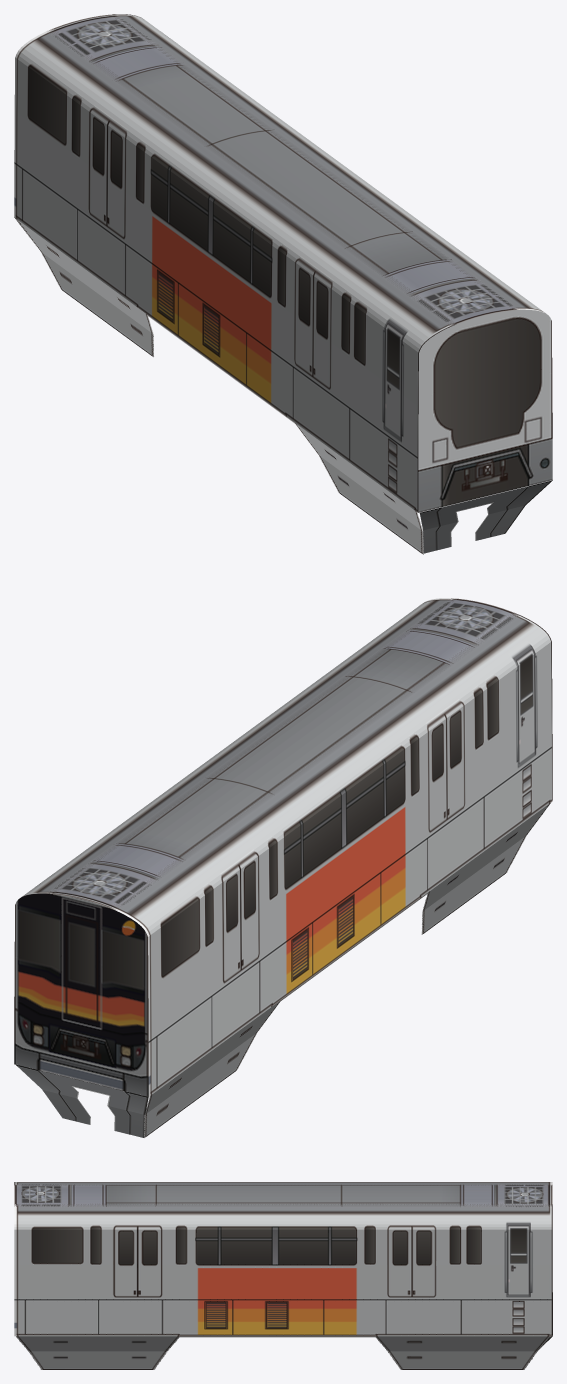
Rendered from car4.glb.
3 views of the same model, one above another, from view 1: azimuth 30°, elevation 25°; view 2: azimuth 150°, elevation 25°; view 3: azimuth 270°, elevation 25° (orthographic). The views are drawn at different scales.
Visible parts, largest first — view 1: tamamono1000-car4; view 2: tamamono1000-car4; view 3: tamamono1000-car4.
Boxes of the visible parts, x1,y1,x2,y2 form: tamamono1000-car4: [14, 14, 552, 554]; tamamono1000-car4: [14, 598, 552, 1137]; tamamono1000-car4: [14, 1182, 552, 1369].
Size of the model in its own units: 2.98 by 5.18 by 15.53.
Materials: 8 (7 with a texture image).
